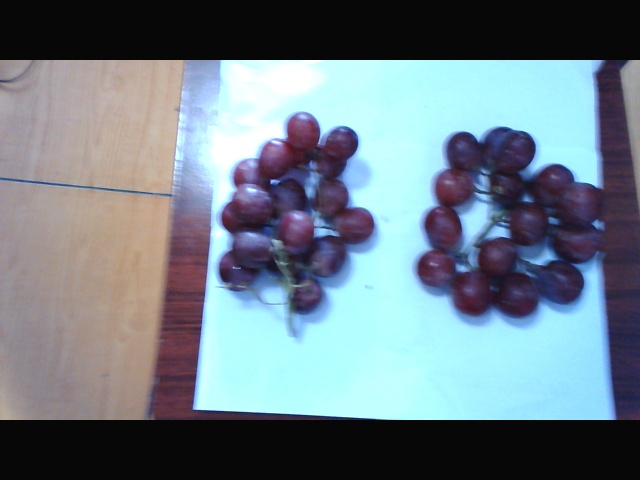grape: (419, 135, 606, 328), (208, 116, 370, 316)
